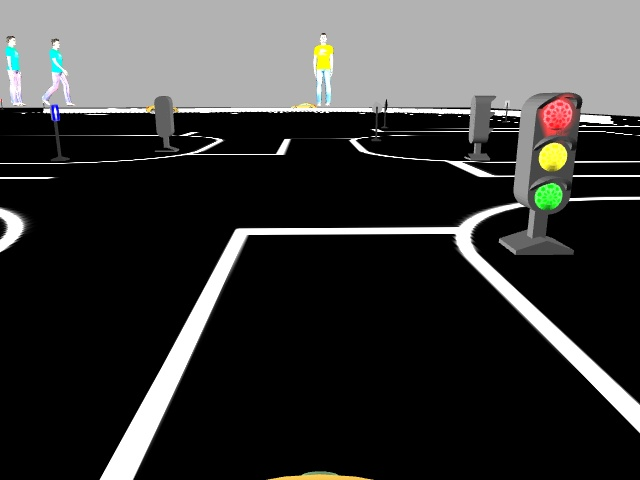TrafficLight: (513, 90, 587, 209)
